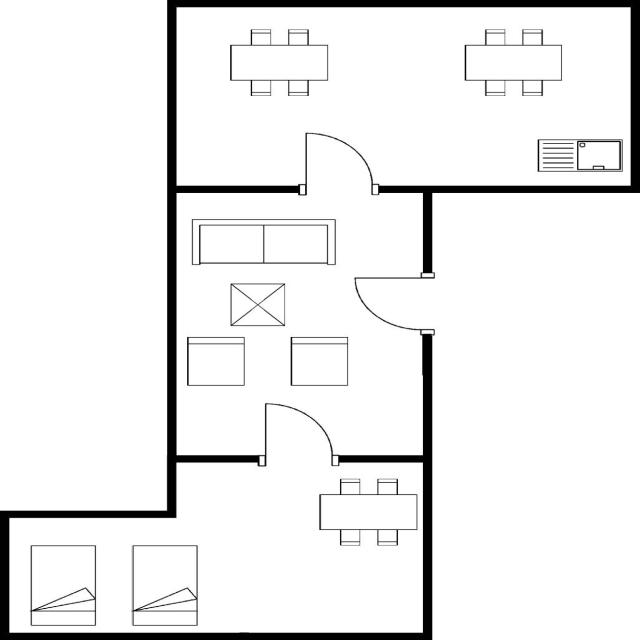bed: (128, 541, 204, 628), (26, 542, 100, 628)
dining_table: (457, 24, 571, 100), (313, 474, 420, 552), (225, 25, 332, 100), (225, 280, 291, 331)
large_sofa: (186, 214, 340, 270)
sink: (531, 135, 625, 175)
small_sofa: (287, 334, 355, 391), (182, 333, 252, 388)
